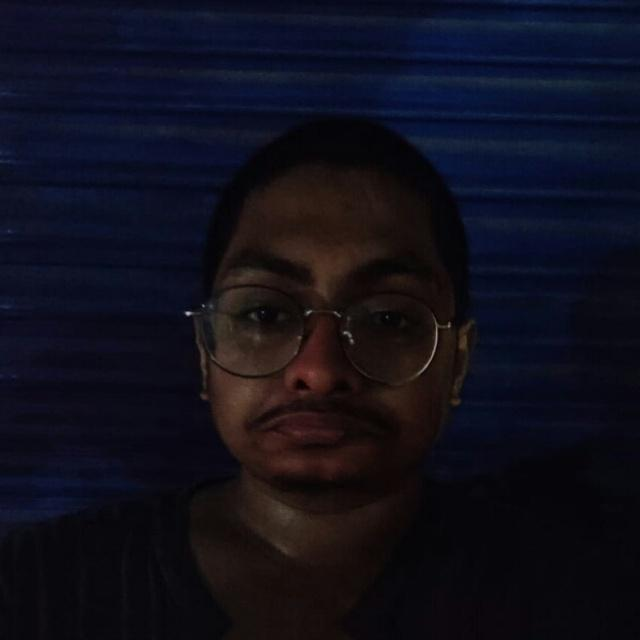Sad: (194, 155, 485, 514)
